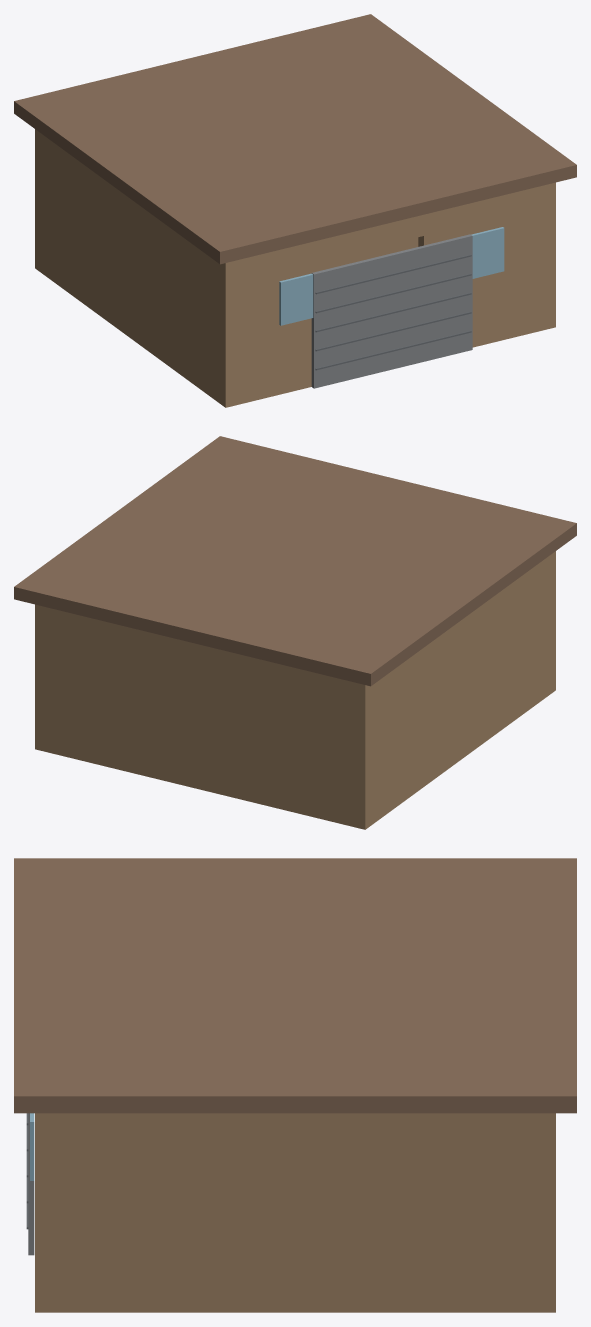
File: warehouse.glb
3 renders of one model, top to bottom at view 1: azimuth 30°, elevation 25°; view 2: azimuth 150°, elevation 25°; view 3: azimuth 270°, elevation 25°, orthographic. The views are drawn at different scales.
Parts seen in each view (by area): view 1: building_0_18, building_0_1, building_0_10, building_0_5, building_0_4, building_0_0, building_0_16, building_0_17, building_0_6, building_0_2, building_0_7, building_0_8; view 2: building_0_18, building_0_3, building_0_1, building_0_0, building_0_2, building_0_7; view 3: building_0_18, building_0_2, building_0_0, building_0_8, building_0_10.
Part boxes in pixels (x1,y1,x2,y2): building_0_18: (14, 14, 576, 264); building_0_1: (35, 129, 235, 407); building_0_10: (311, 234, 472, 388); building_0_5: (418, 185, 546, 346); building_0_4: (235, 231, 357, 402); building_0_0: (35, 260, 555, 407); building_0_16: (279, 273, 313, 325); building_0_17: (471, 227, 504, 278); building_0_6: (358, 214, 423, 251); building_0_2: (546, 182, 555, 329); building_0_7: (127, 197, 132, 339); building_0_8: (358, 237, 418, 261); building_0_18: (14, 436, 576, 686); building_0_3: (44, 607, 355, 822); building_0_1: (355, 551, 555, 829); building_0_0: (35, 682, 555, 829); building_0_2: (35, 604, 44, 751); building_0_7: (458, 619, 463, 761); building_0_18: (14, 858, 576, 1113); building_0_2: (35, 1113, 555, 1312); building_0_0: (35, 1301, 555, 1312); building_0_8: (287, 1113, 303, 1312); building_0_10: (28, 1113, 34, 1255).
Size of the model in its own units: 6.48 by 2.86 by 6.48.
